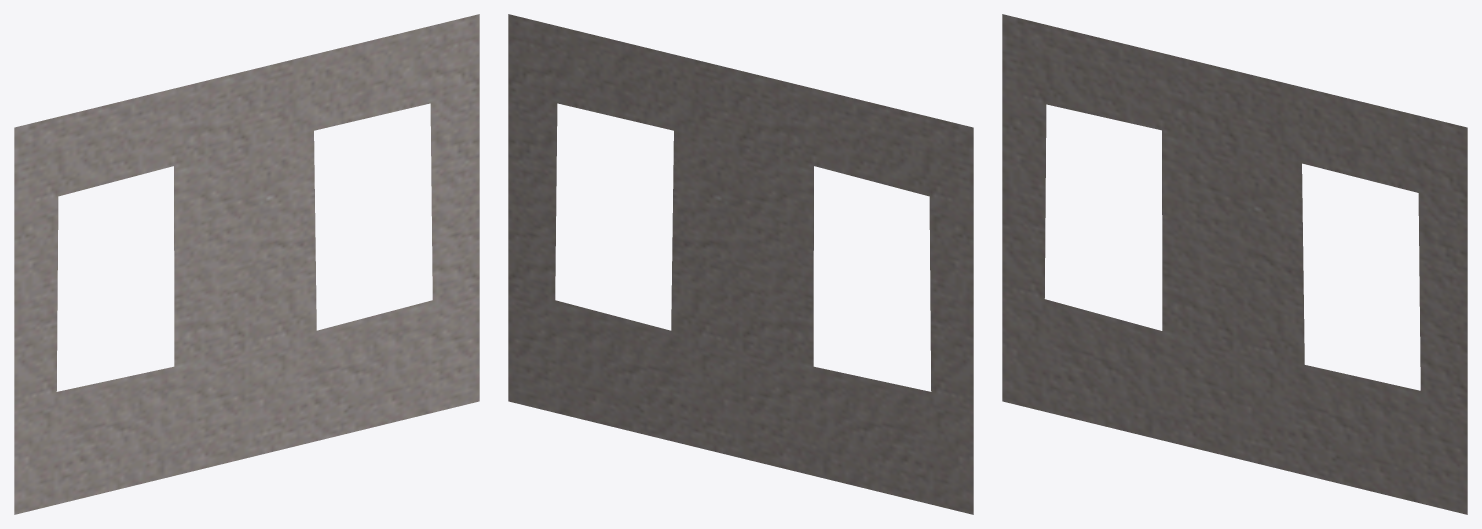
3 renders of one model, left to right at view 1: azimuth 30°, elevation 25°; view 2: azimuth 150°, elevation 25°; view 3: azimuth 330°, elevation 25°, orthographic.
Parts seen in each view (by area): view 1: pPlaneShape1; view 2: pPlaneShape1; view 3: pPlaneShape1.
Boxes of the visible parts, x1,y1,x2,y2 form: pPlaneShape1: (14,14,479,514); pPlaneShape1: (508,14,973,514); pPlaneShape1: (1002,14,1467,514).
Size of the model in its own units: 0.4385 by 0.3486 by 1.34e-07.
1 material, 1 textured.
